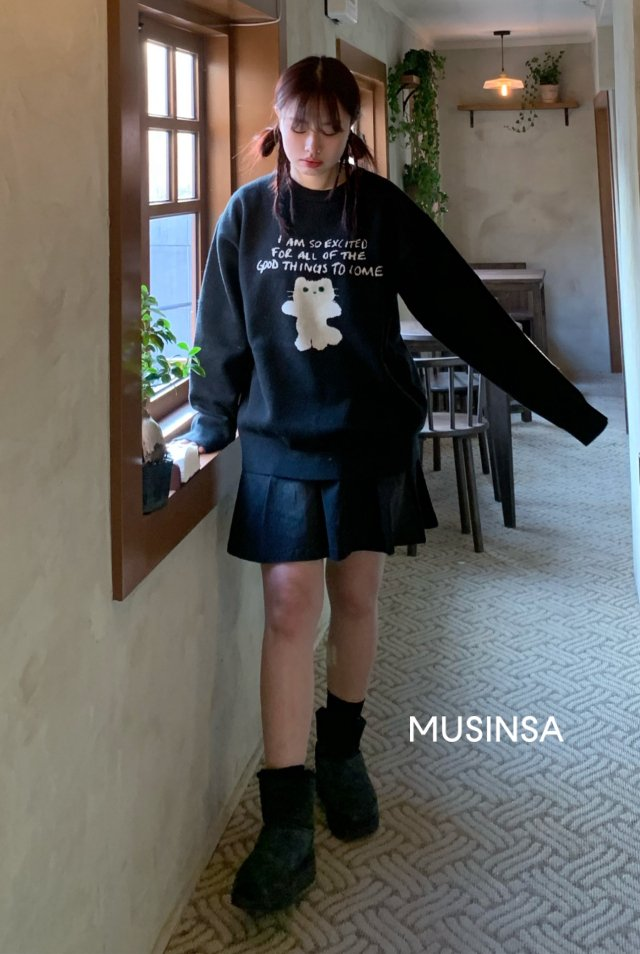Boots: (225, 710, 386, 915)
Skirt: (225, 464, 440, 567)
Sweatshirt: (201, 167, 520, 442)
